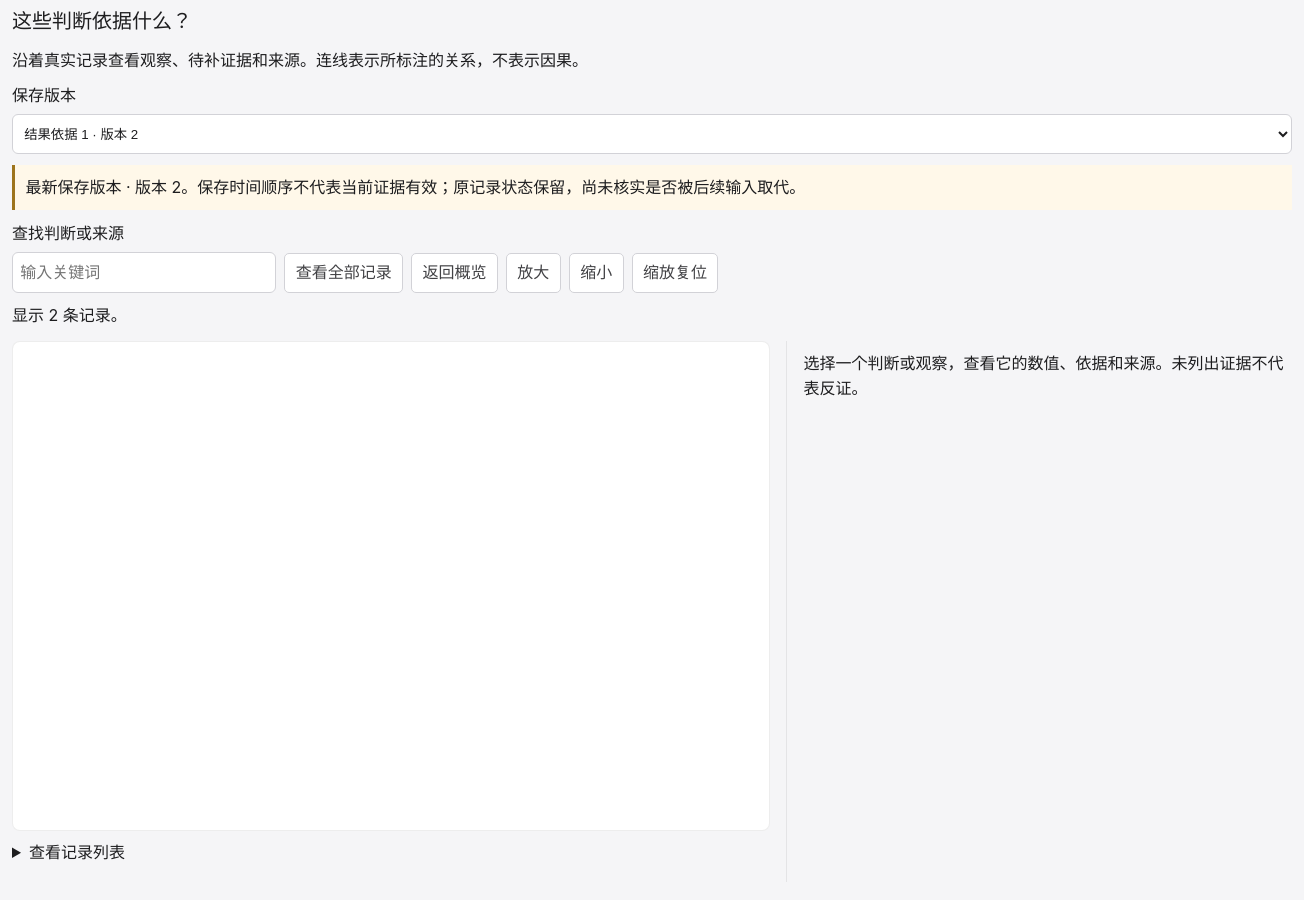
Test case: evidence graph entry › distinguishes measurement gaps from missing independent validation and keeps source IDs out of ordinary details
This screenshot has width=1304, height=900.
Expected: the heading "这些判断依据什么？" is shown, [12,9,192,33]
Click the button "查看全部记录": (344,273) [284,253,403,293]
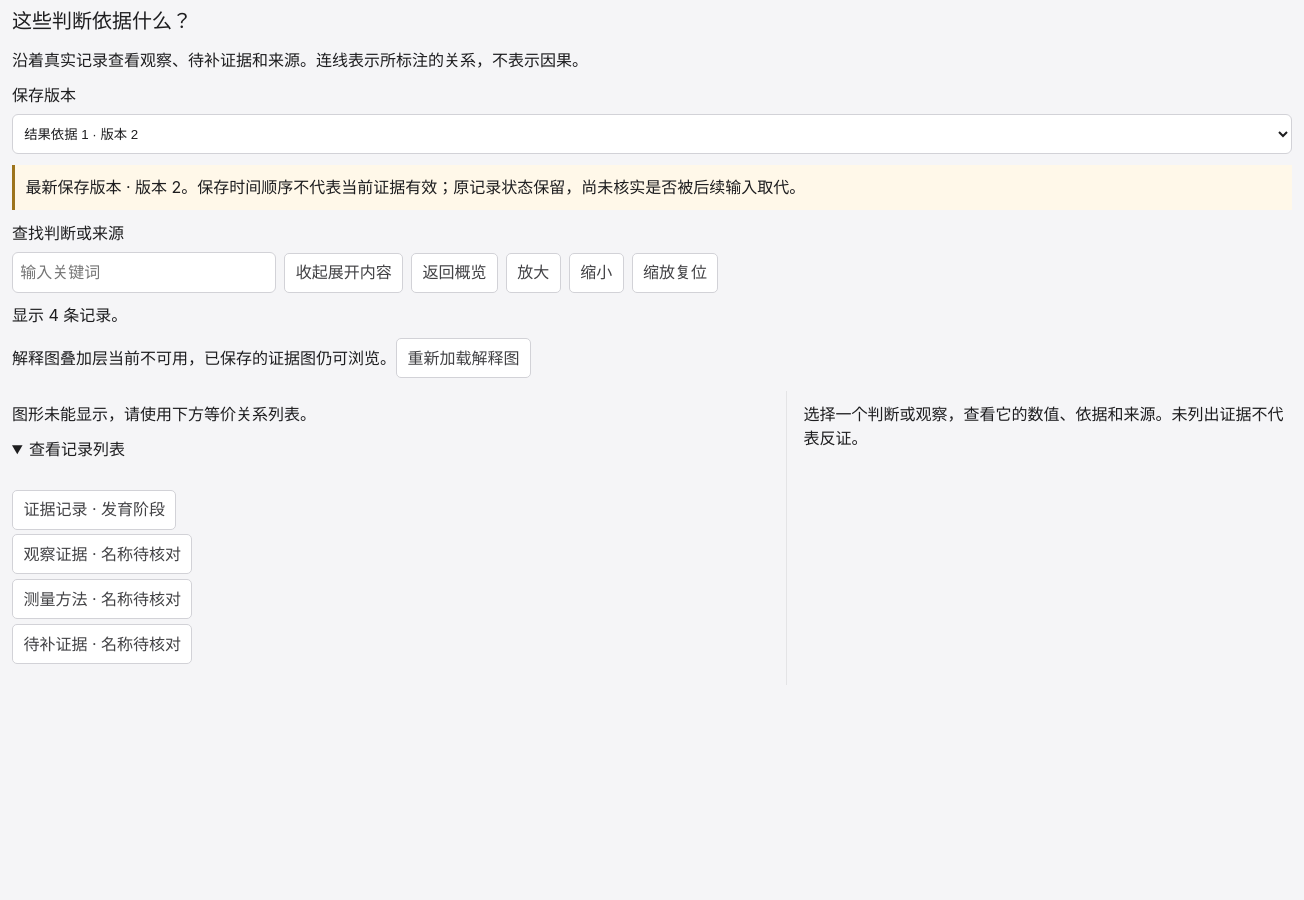
Click the button "证据记录 · 发育阶段": (94,510) [12,490,176,530]
(page scrolled)
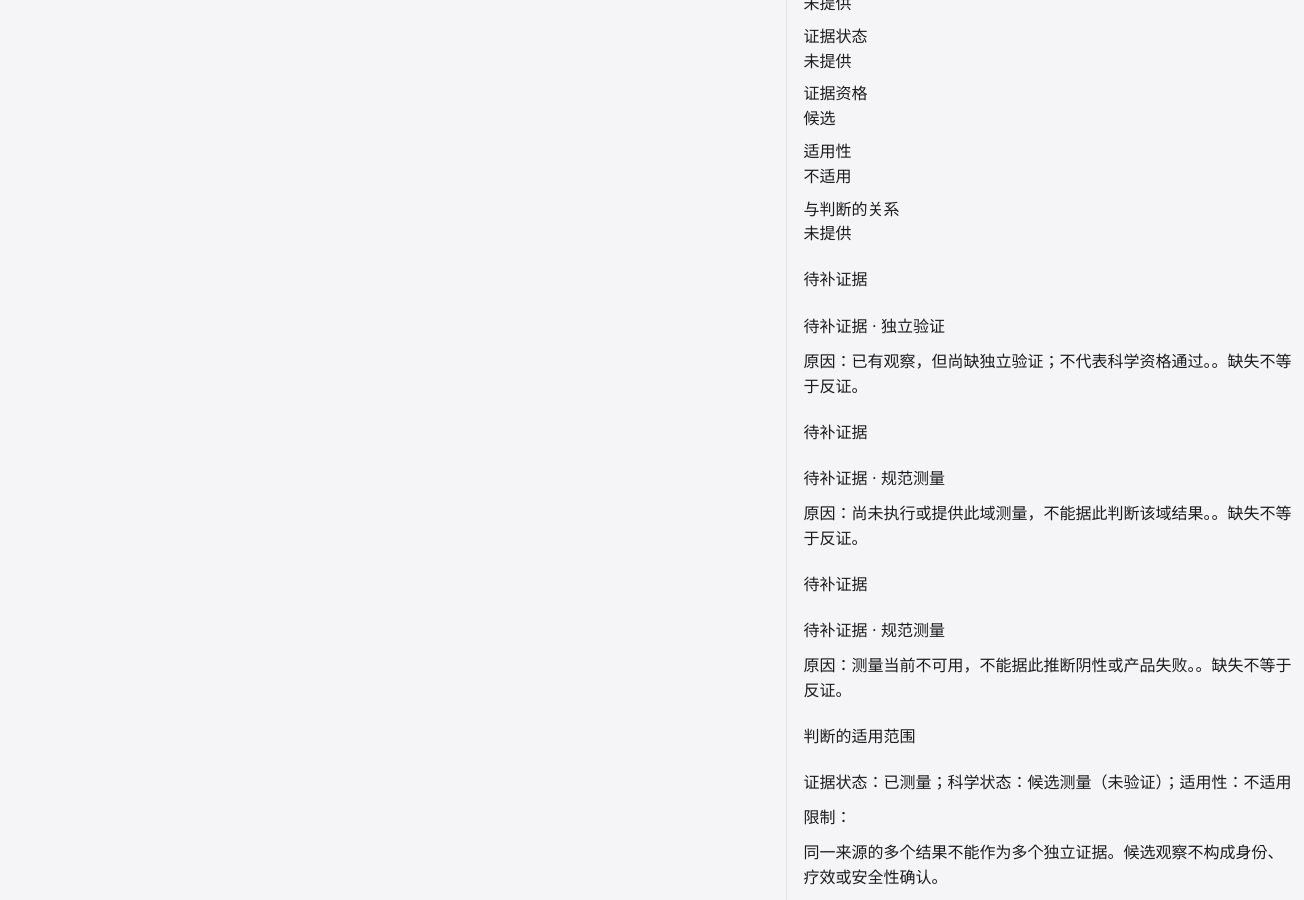
Now the text "原因：已有观察，但尚缺独立验证；不代表科学资格通过。。缺失不等于反证。" is shown, box [803,349,1292,398]
Now the text "原因：尚未执行或提供此域测量，不能据此判断该域结果。。缺失不等于反证。" is shown, box [803,501,1292,550]
Now the text "原因：测量当前不可用，不能据此推断阴性或产品失败。。缺失不等于反证。" is shown, box [803,653,1292,702]
